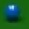blue: (0, 0, 29, 29)
